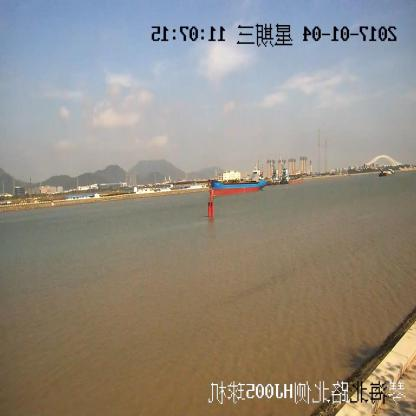Bulk Carrier: (209, 166, 267, 196)
